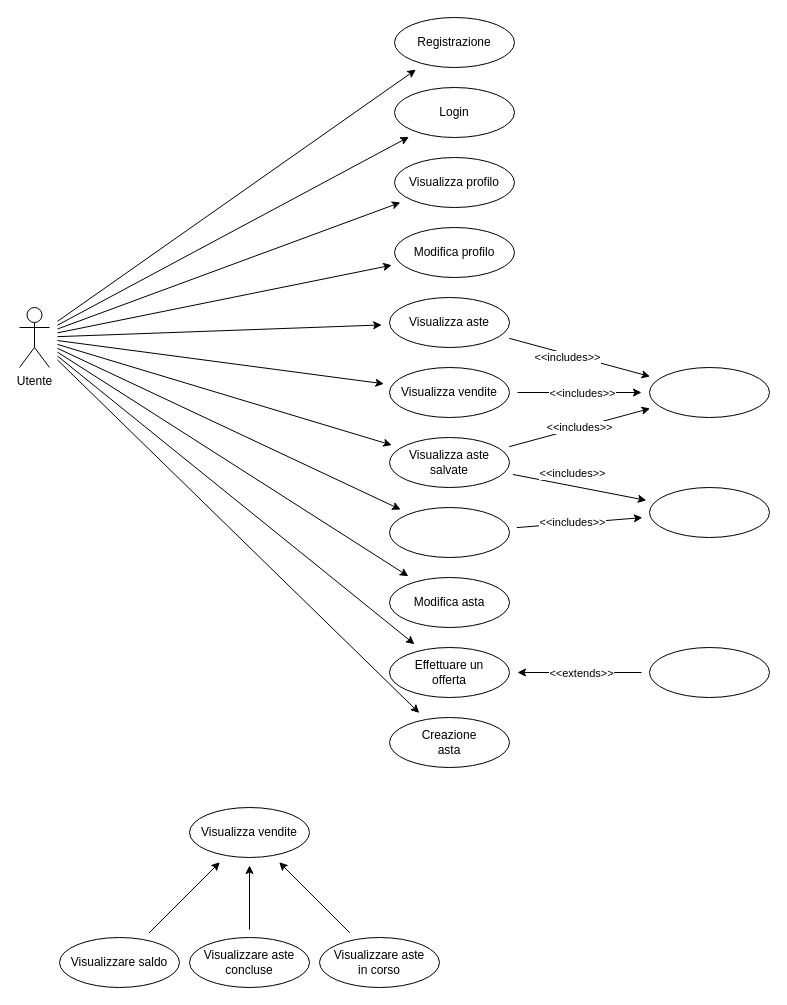
Image size: 787x1005. Some labels were removed from this diagram. The shapes that lost their labels are listed below. From the top down, each one's centre as x and y in pixels, then its label:
(709,392): Filtro risultati
(449,532): Visualizzazione asta
(709,512): Aggiunta asta alle aste salvate
(709,672): Offerta Automatica
